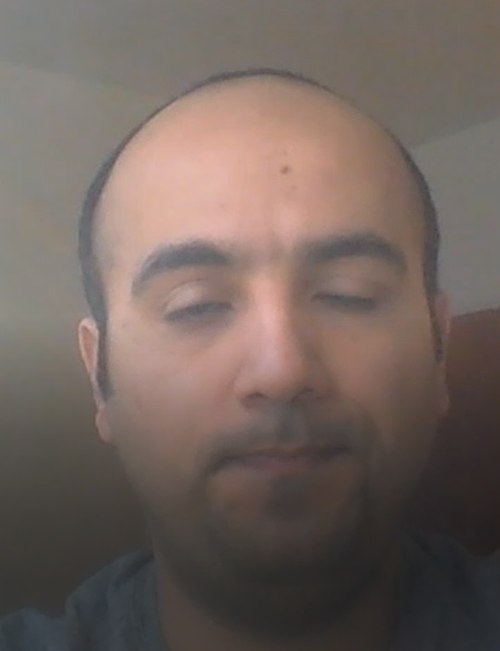Half Asleep: (133, 231, 430, 358)
